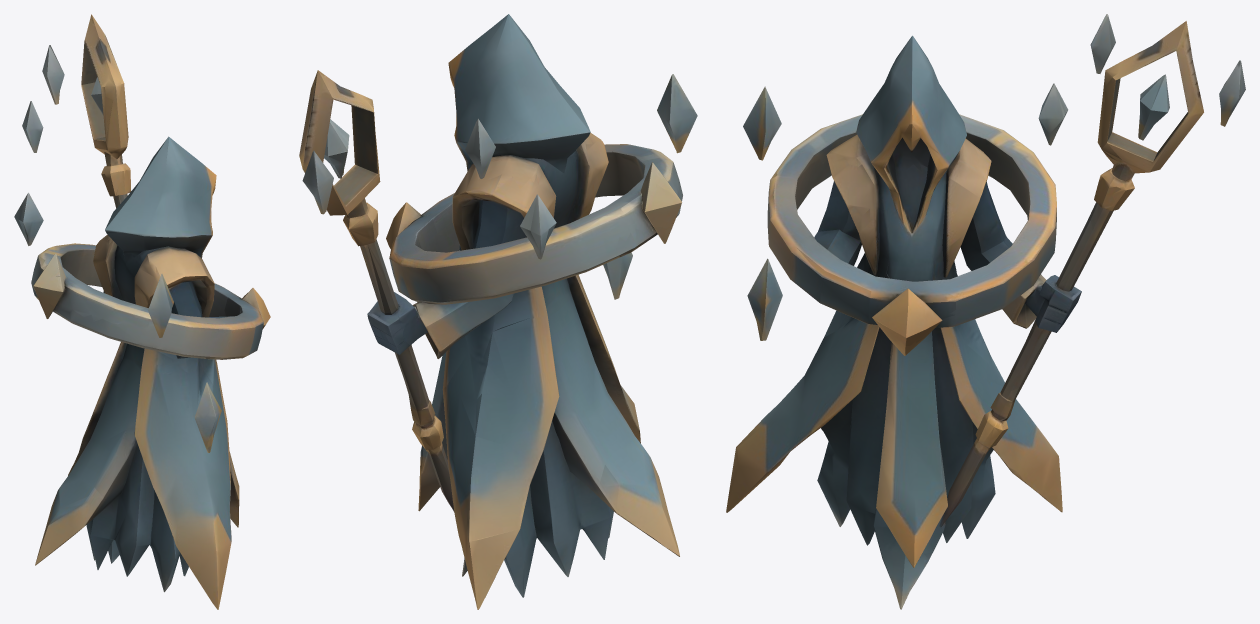
Rendered from elite_conduit.glb.
3 views of the same model, side by side, from view 1: azimuth 30°, elevation 25°; view 2: azimuth 150°, elevation 25°; view 3: azimuth 270°, elevation 25° (orthographic). The views are drawn at different scales.
Parts seen in each view (by area): view 1: body, head, ring, shards, staff; view 2: body, head, staff, shards, ring; view 3: body, ring, head, staff, shards.
Boxes of the visible parts, x1,y1,x2,y2 form: body: (31,171,239,609); head: (41,74,216,279); ring: (33,281,270,374); shards: (14,45,221,452); staff: (81,14,128,208); body: (367,132,681,609); head: (361,14,672,223); staff: (299,70,454,511); shards: (302,74,697,299); ring: (386,144,682,256); body: (726,114,1121,609); ring: (767,157,1095,345); head: (831,35,1127,191); staff: (924,21,1203,567); shards: (743,14,1245,340).
Size of the model in its own units: 1.16 by 2.3 by 1.85.
1 material, 1 textured.
